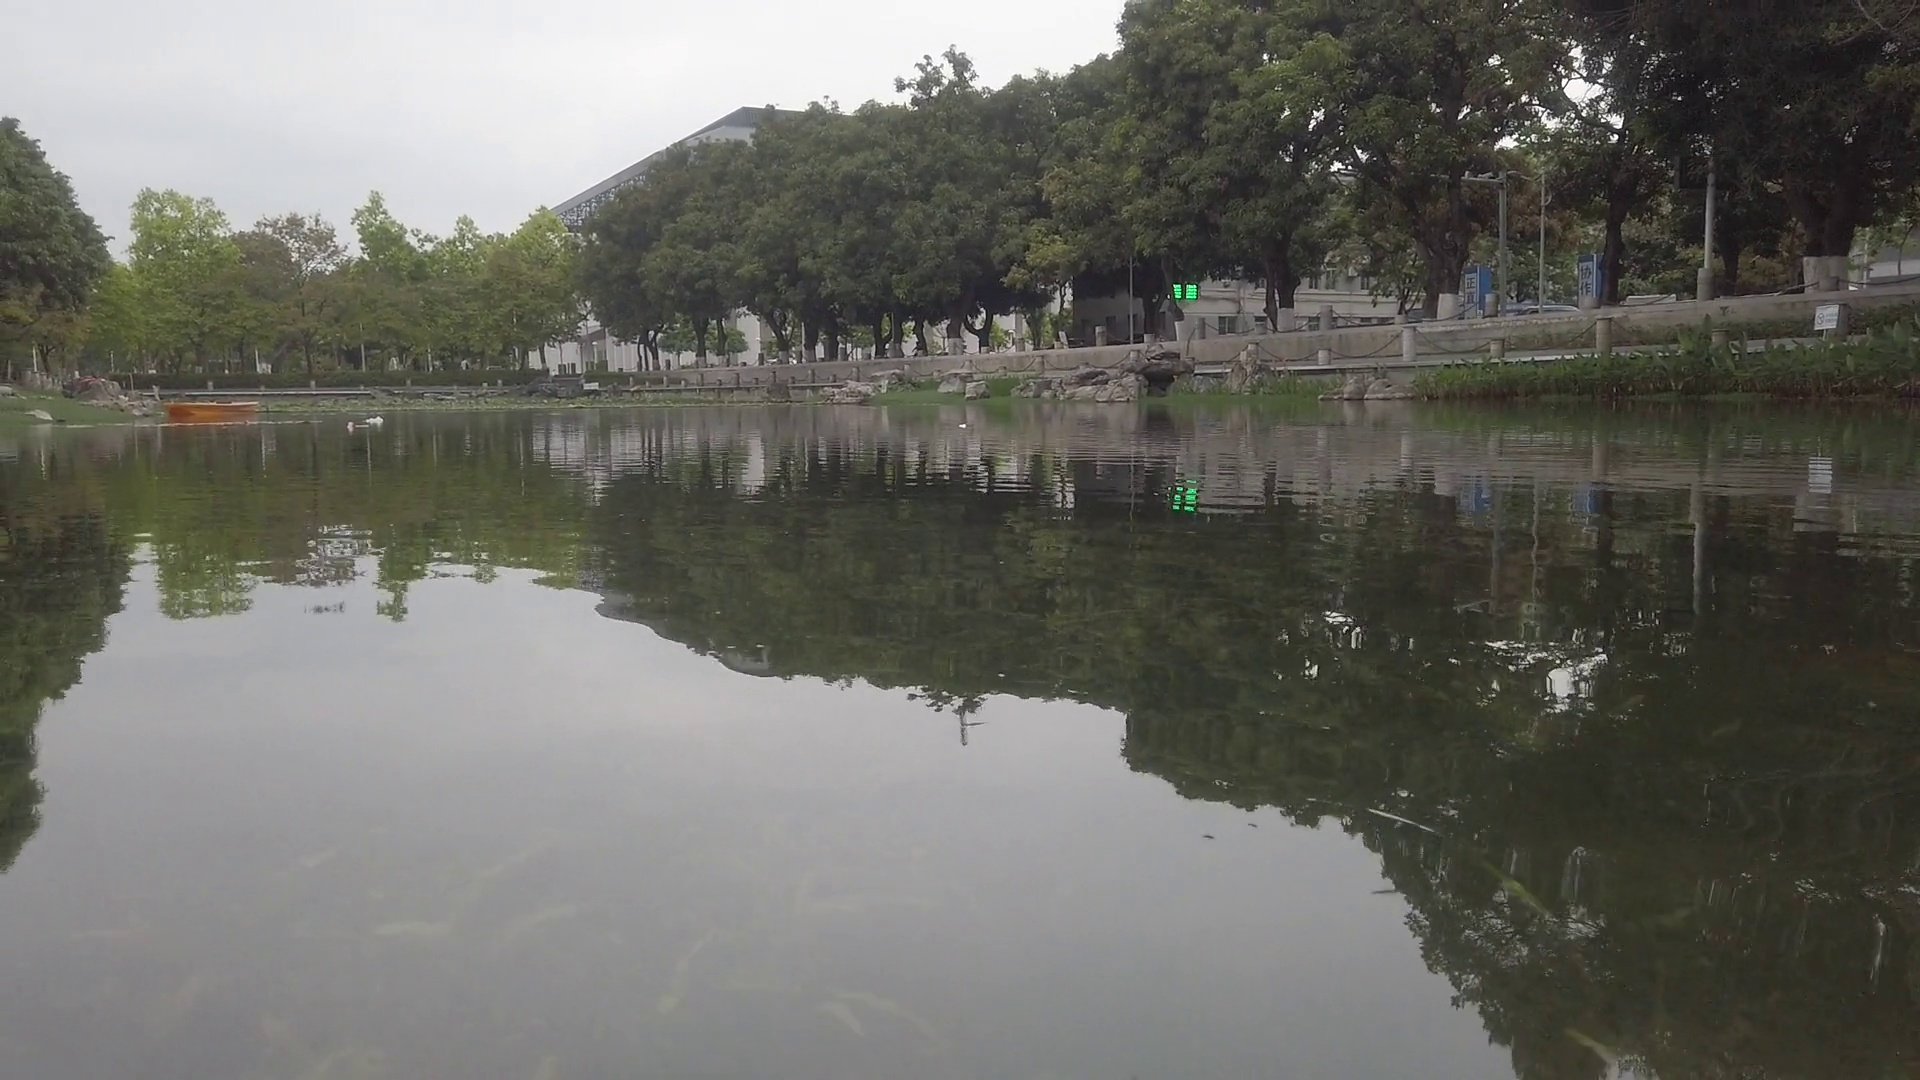paper: (953, 421, 975, 433)
plastic: (367, 415, 384, 425)
